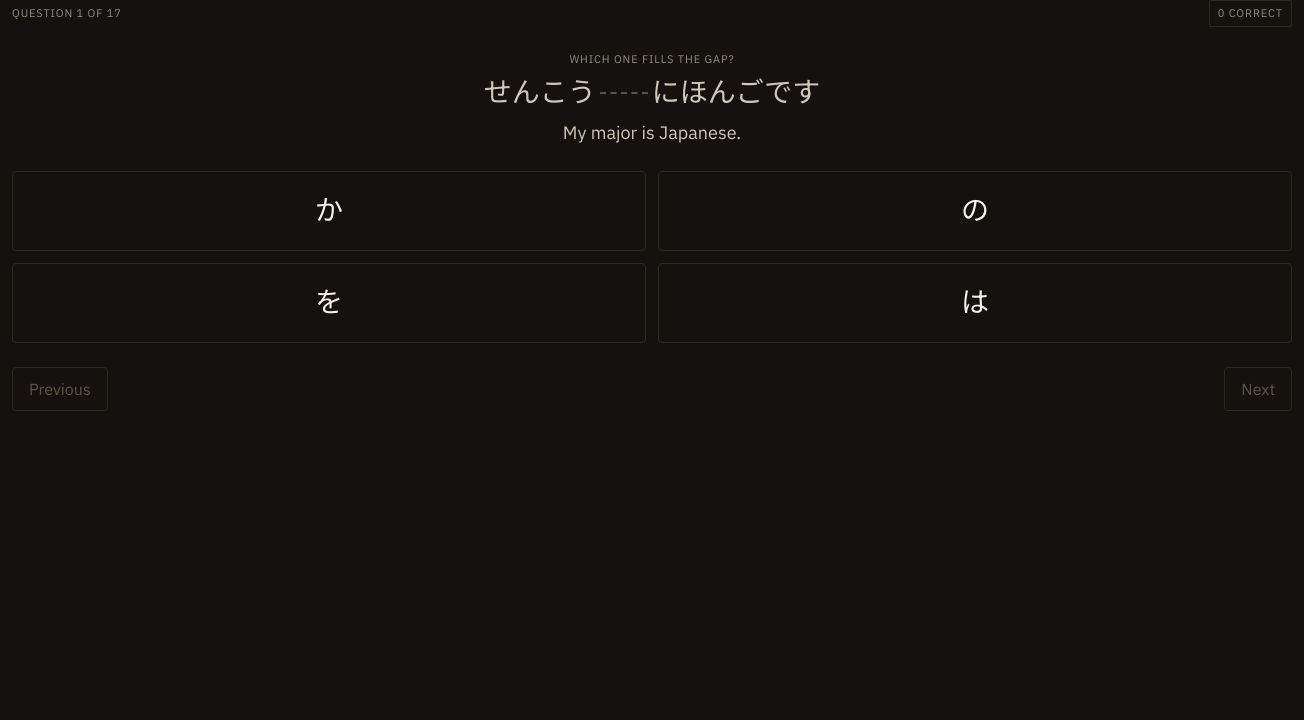
Scenario: The grammar cloze › marks the verdict in words, not only colour
The width and height of the screenshot is (1304, 720).
Click the button "か" at (329, 211), box [12,171,646,251]
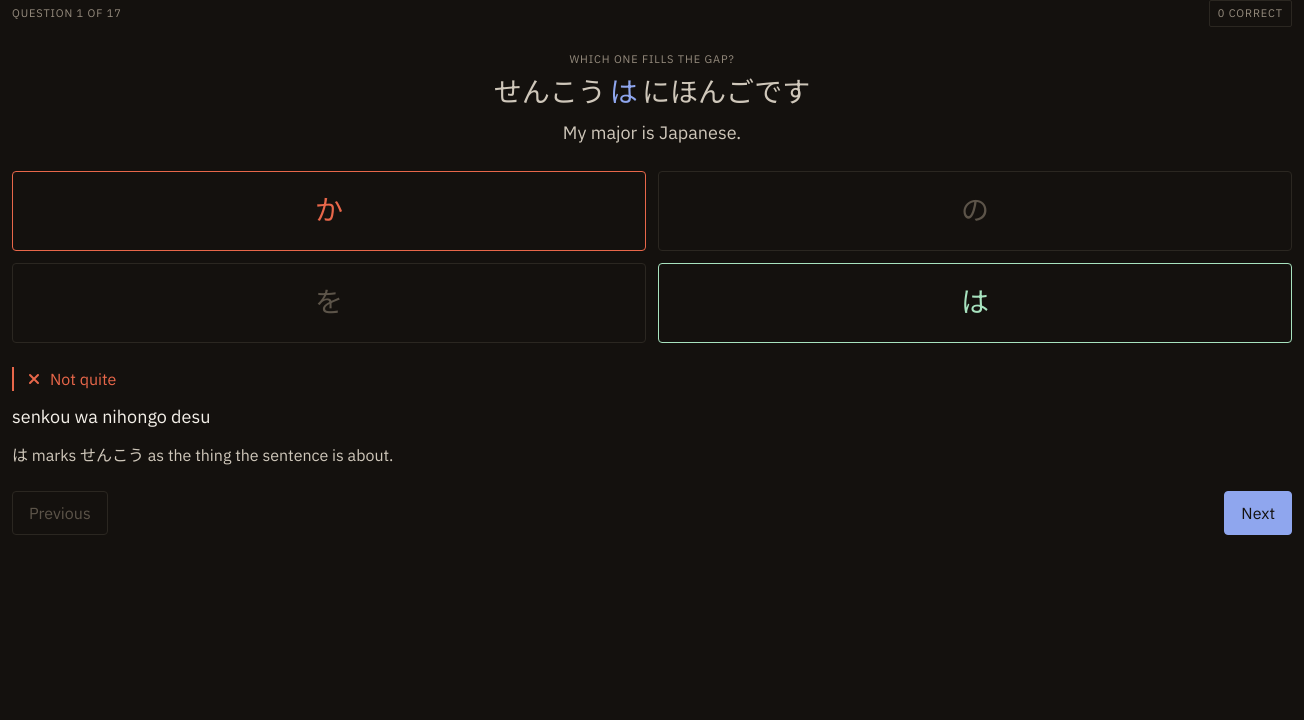
Result: the text "Not quite" is shown at [12,367,1292,391]
